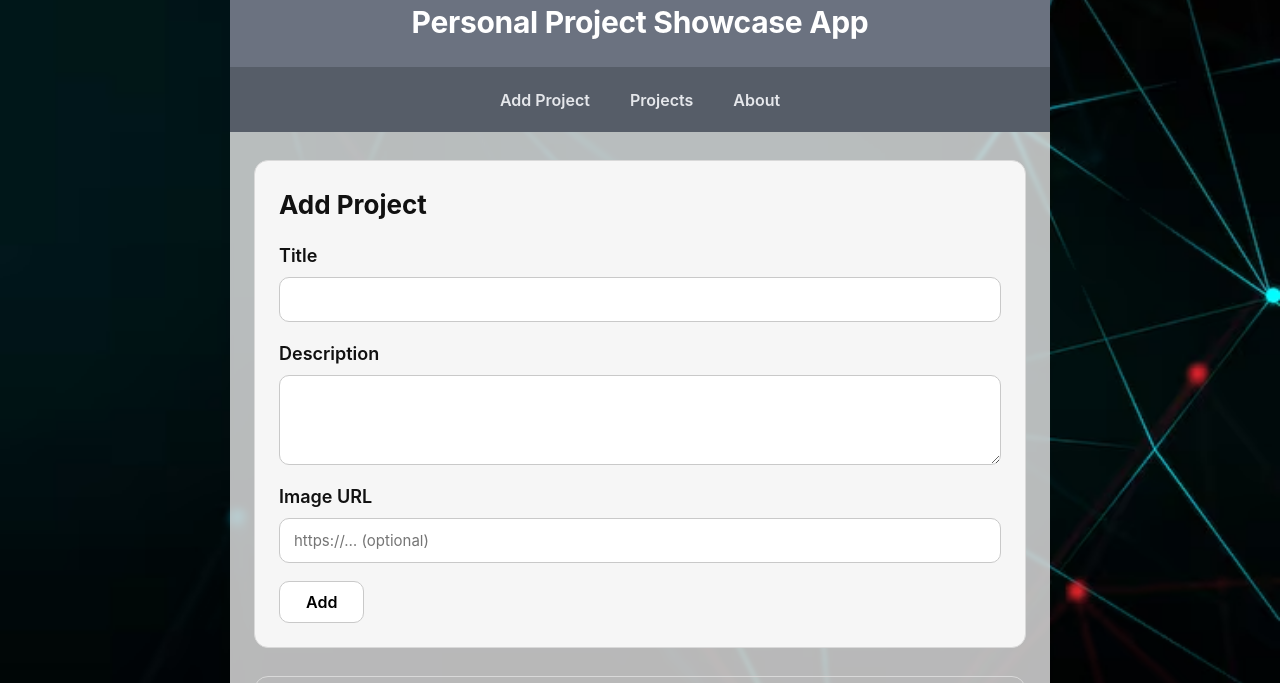
Test: App (routing + CRUD) › CREATE: adds a new project and shows it on the list
Type "Test Project" into the field labelled "Title".
click(640, 300); type("Test Project")  # box [279,277,1001,322]
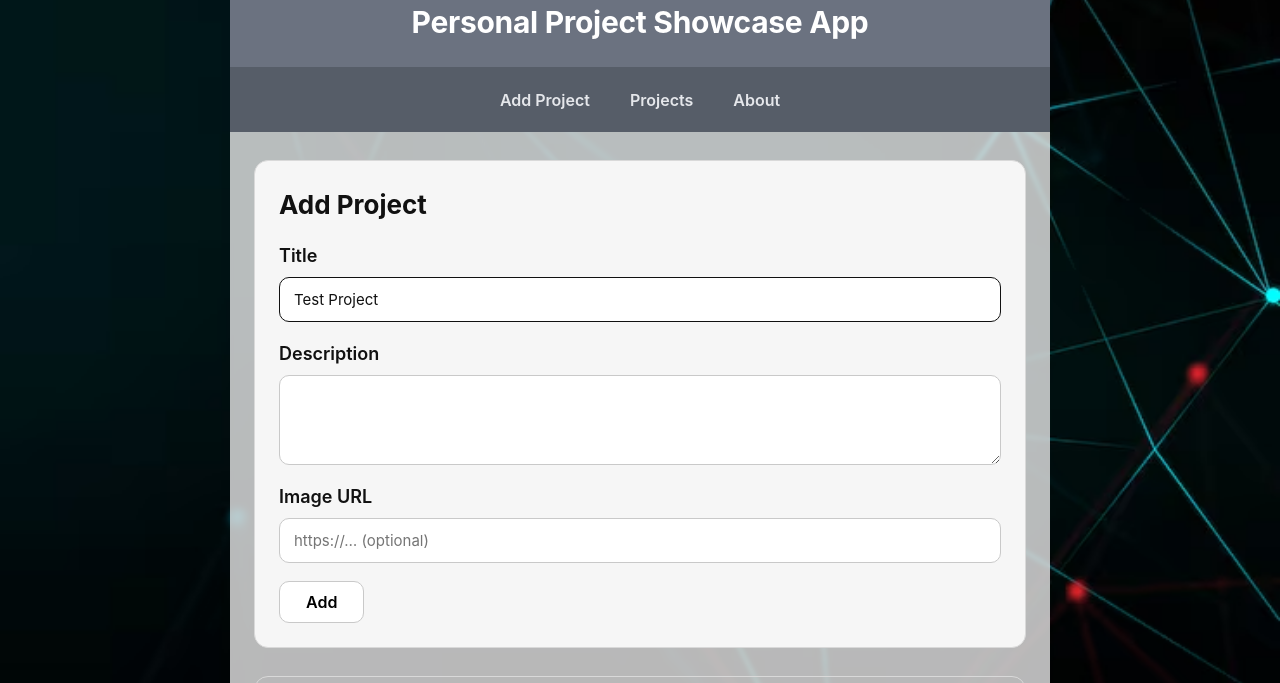
Type "Made in a test" into the text box labelled "Description".
click(640, 420); type("Made in a test")  # box [279,375,1001,465]
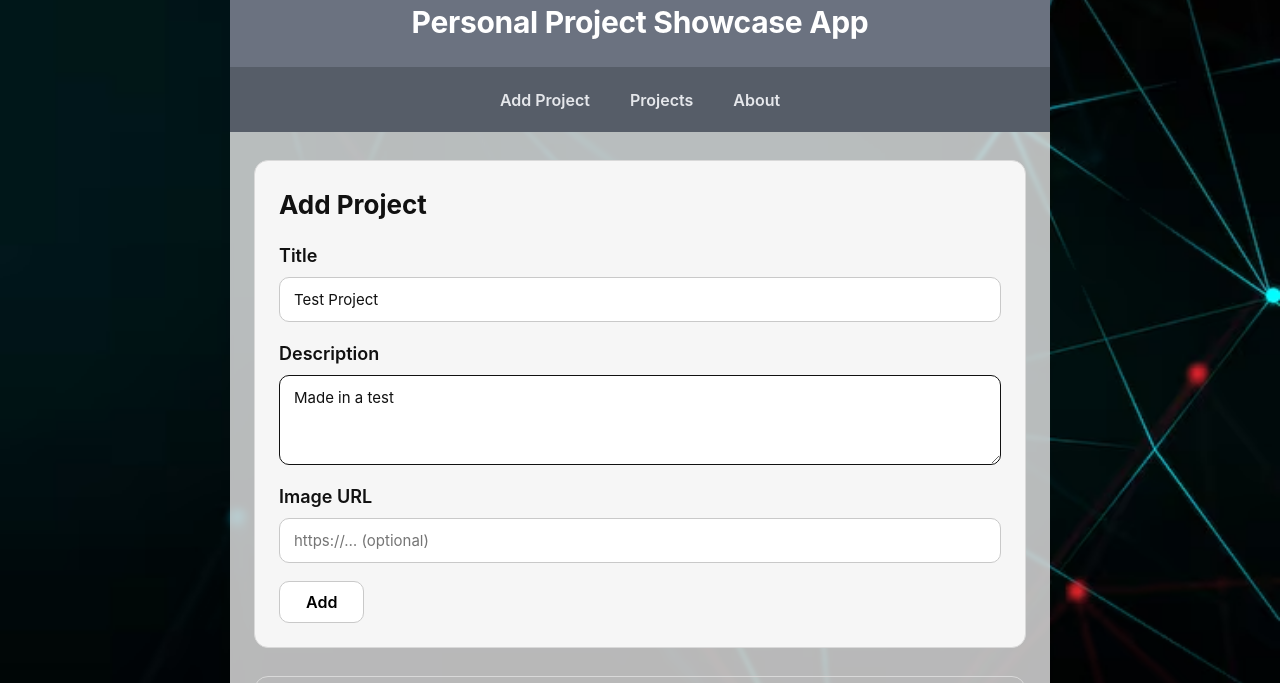
Click the button "Add".
click(322, 602)  # box [279,581,364,623]
(page scrolled)
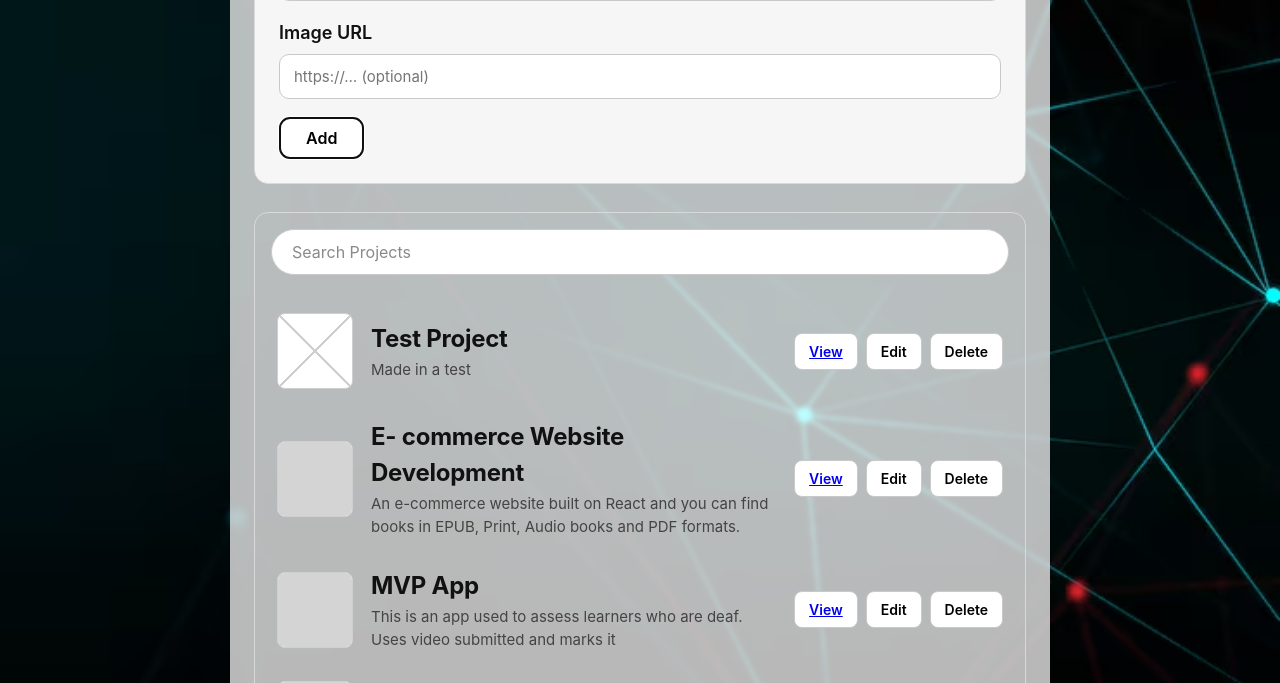
Expected: the heading "Test Project" is shown, [371,324,508,353]
